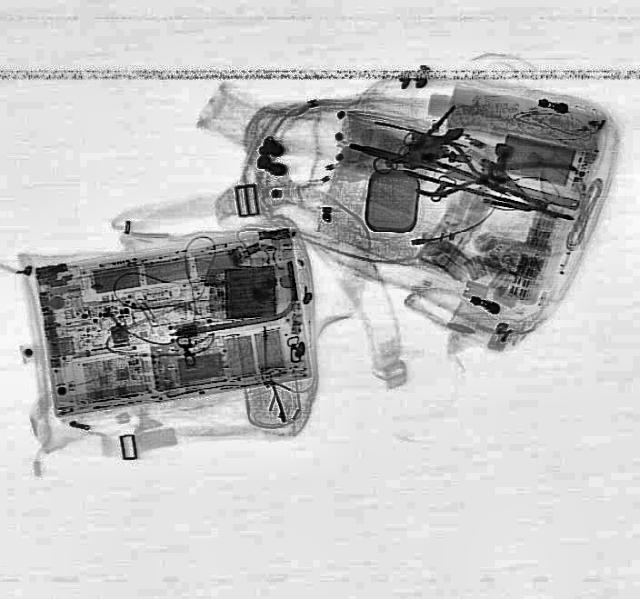Pliers: (469, 137, 595, 223), (411, 134, 519, 212)
